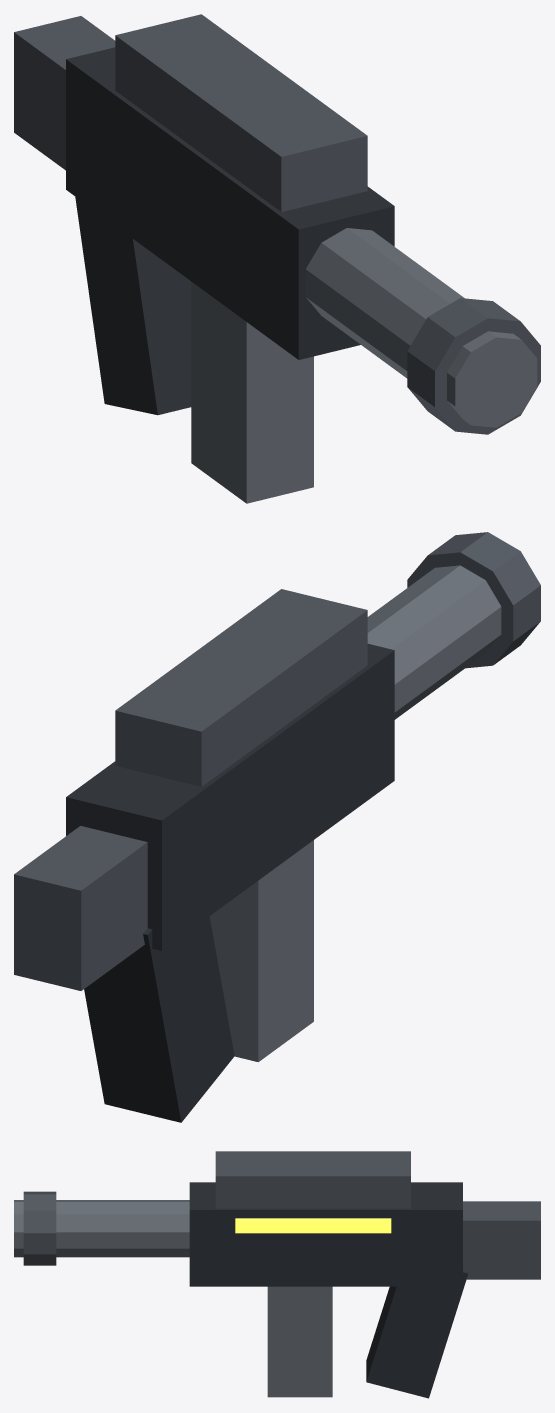
The model's file is Modle_Gun_Auto.fbx.
3 renders of one model, top to bottom at view 1: azimuth 30°, elevation 25°; view 2: azimuth 150°, elevation 25°; view 3: azimuth 270°, elevation 25°, orthographic. The views are drawn at different scales.
Visible parts, largest first — view 1: Modle_Gun_Auto; view 2: Modle_Gun_Auto; view 3: Modle_Gun_Auto.
Part boxes in pixels (x1,y1,x2,y2): Modle_Gun_Auto: (14,14,540,503); Modle_Gun_Auto: (14,532,540,1122); Modle_Gun_Auto: (14,1151,540,1398).
Bounding box in the file's own units: 0.1132 × 0.38 × 0.81.
